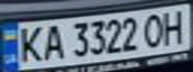2: (118, 14, 145, 52), (103, 16, 127, 55)
3: (66, 19, 90, 57), (87, 18, 109, 56)
A: (39, 21, 66, 61)
H: (157, 7, 193, 45)
K: (12, 24, 45, 64)
O: (139, 10, 169, 47)
